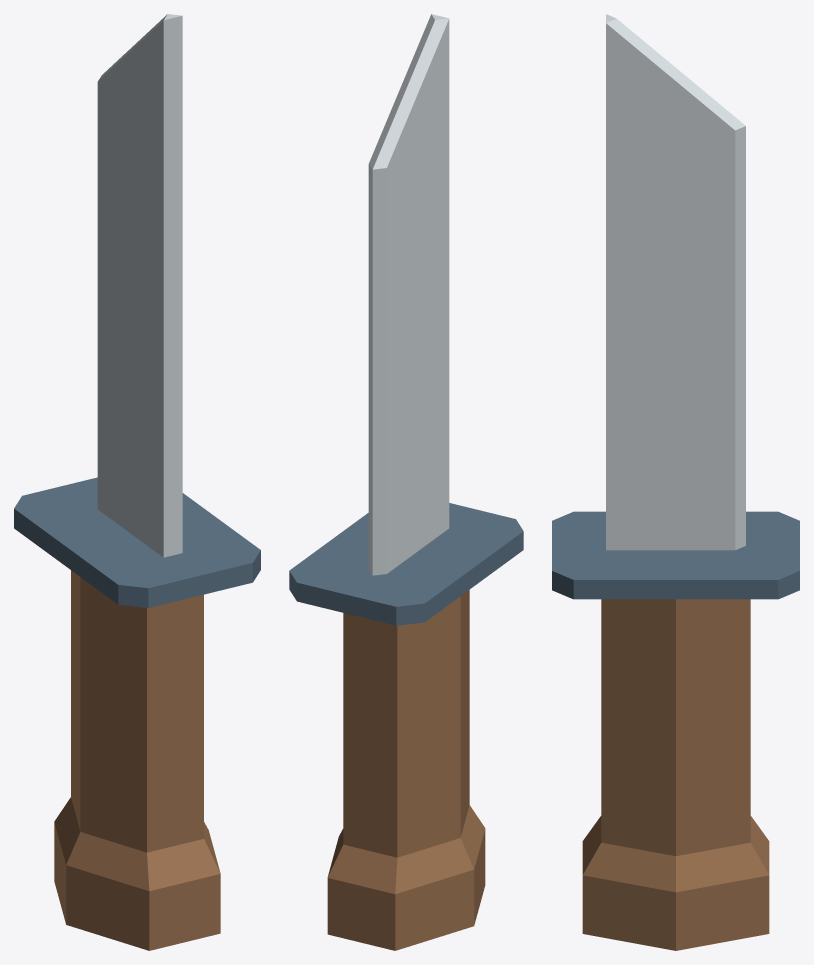
Rendered from knifeRound_sharp.obj.
3 renders of one model, left to right at view 1: azimuth 30°, elevation 25°; view 2: azimuth 150°, elevation 25°; view 3: azimuth 270°, elevation 25°, orthographic. The views are drawn at different scales.
Parts seen in each view (by area): view 1: knifeRound_sharp; view 2: knifeRound_sharp; view 3: knifeRound_sharp.
Part boxes in pixels (left/top/right/bottom): knifeRound_sharp: left=14, top=14, right=260, bottom=950; knifeRound_sharp: left=289, top=14, right=523, bottom=950; knifeRound_sharp: left=552, top=14, right=799, bottom=950.
Size of the model in its own units: 0.0574 by 0.3522 by 0.088.
